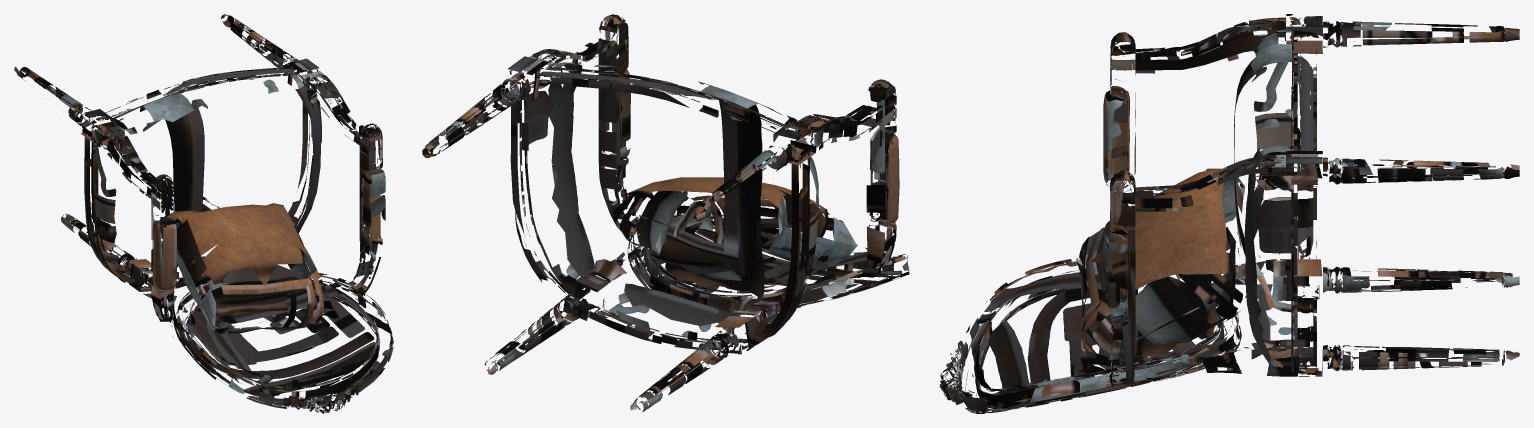
3 views of the same model, side by side, from view 1: azimuth 30°, elevation 25°; view 2: azimuth 150°, elevation 25°; view 3: azimuth 270°, elevation 25° (orthographic). The views are drawn at different scales.
Size of the model in its own units: 0.6101 by 0.6018 by 0.9922.
